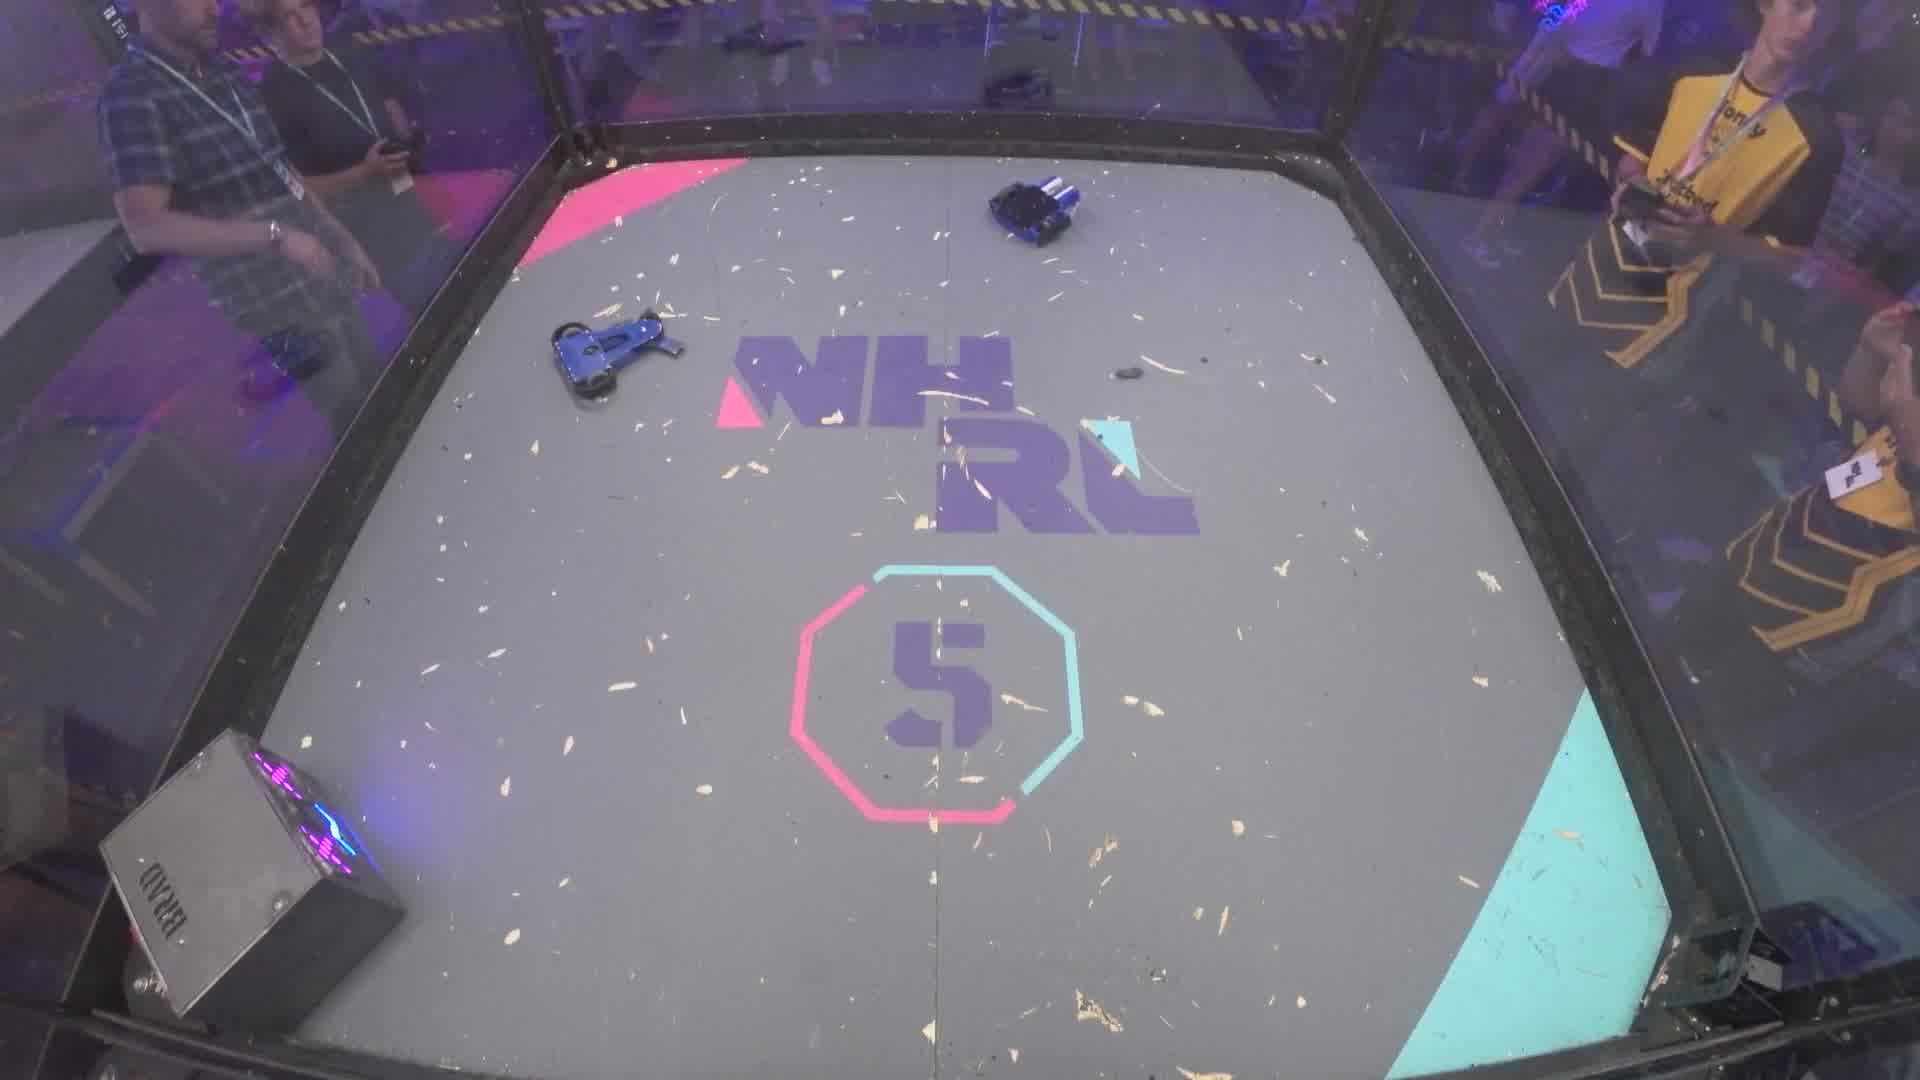combatbot: (547, 306, 687, 404), (985, 174, 1084, 248)
housebot: (96, 727, 409, 1030)
